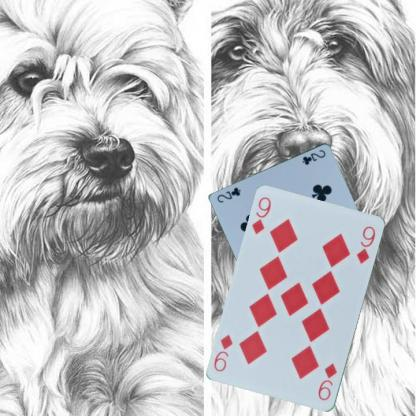2c: (300, 147, 326, 166)
9d: (249, 195, 273, 236), (316, 361, 338, 402)
